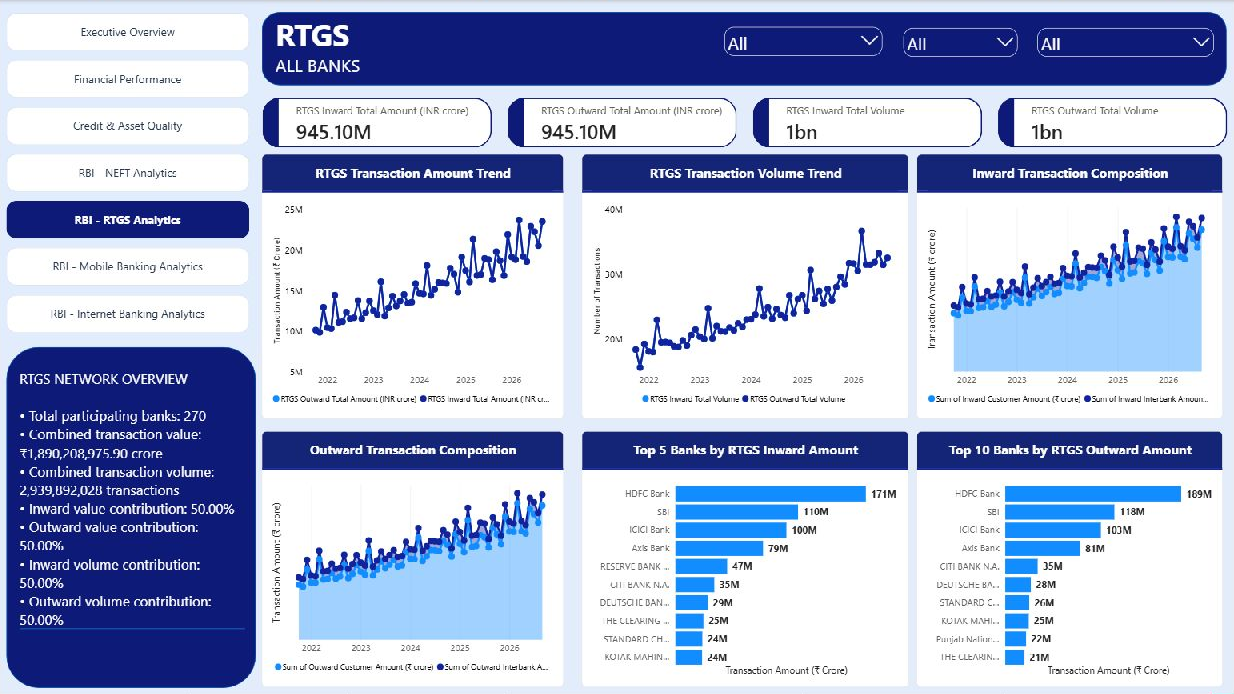

This screenshot's page, from the dashboard's own definition file:
{"tool":"powerbi","page":{"name":"RBI - RTGS Analytics","canvas":[1920,1080],"ordinal":4},"visuals":[{"type":"shape","box":[408,18,1510,114],"z":0},{"type":"slicer","fields":{"Values":["RTGS.Year"]},"box":[1597.3,18.5,304.6,111.1],"z":1000},{"type":"pageNavigator","box":[0,0,408.3,539.3],"z":2000},{"type":"shape","box":[0,540,408,530],"z":3000},{"type":"textbox","box":[31.4,573.8,350.6,476.2],"z":4000},{"type":"textbox","title":"RTGS","box":[408.5,10.5,703.3,132.7],"z":5000},{"type":"cardVisual","fields":{"Data":["RTGS.RTGS Inward Total Amount (INR crore)","RTGS.RTGS Outward Total Amount (INR crore)","RTGS.RTGS Inward Total Volume","RTGS.RTGS Outward Total Volume"]},"box":[408.3,132.7,1510.8,107.2],"z":6000},{"type":"lineChart","title":"RTGS Transaction Amount Trend","fields":{"Category":["RTGS.MonthDate"],"Y":["RTGS.RTGS Outward Total Amount (INR crore)","RTGS.RTGS Inward Total Amount (INR crore)"]},"box":[406.6,239.9,469.6,411.7],"z":7000},{"type":"lineChart","title":"RTGS Transaction Volume Trend","fields":{"Category":["RTGS.MonthDate"],"Y":["RTGS.RTGS Inward Total Volume","RTGS.RTGS Outward Total Volume"]},"box":[905.1,239.9,508.7,411.7],"z":8000},{"type":"clusteredBarChart","title":"Top 5 Banks by RTGS Inward Amount","fields":{"Category":["RTGS.Bank Name"],"Y":["RTGS.RTGS Inward Total Amount (INR crore)"]},"box":[905.1,670.3,508.7,398.1],"z":9000},{"type":"clusteredBarChart","title":"Top 10 Banks by RTGS Outward Amount","fields":{"Category":["RTGS.Bank Name"],"Y":["RTGS.RTGS Outward Total Amount (INR crore)"]},"box":[1425.7,670.3,476.4,398.1],"z":10000},{"type":"slicer","fields":{"Values":["RTGS.Month"]},"box":[1389.4,18.5,207.9,111.1],"z":11000},{"type":"slicer","fields":{"Values":["RTGS.Bank Name"]},"box":[1111.7,17.7,275.5,112.2],"z":12000},{"type":"stackedAreaChart","title":"Inward Transaction Composition","fields":{"Category":["RTGS.MonthDate"],"Y":["Sum(RTGS.Inward Customer Amount (₹ crore))","Sum(RTGS.Inward Interbank Amount (₹ crore))"]},"box":[1425.7,239.9,476.4,411.7],"z":13000},{"type":"stackedAreaChart","title":"Outward Transaction Composition","fields":{"Category":["RTGS.MonthDate"],"Y":["Sum(RTGS.Outward Customer Amount (₹ crore))","Sum(RTGS.Outward Interbank Amount (₹ crore))"]},"box":[406.6,670.3,469.6,398.1],"z":14000}]}

Visuals, with their boxes on the page's 1920x1080 design canvas (x1, y1, x2, y2). These are canvas units, not pixel positions in the 1234x694 screenshot, which may show the page scaled, cropped or inside an application window:
shape: (408,18,1918,132)
slicer - RTGS.Year: (1597,18,1902,130)
pageNavigator: (0,0,408,539)
shape: (0,540,408,1070)
textbox: (31,574,382,1050)
"RTGS" textbox: (408,10,1112,143)
cardVisual - RTGS.RTGS Inward Total Amount (INR crore) x RTGS.RTGS Outward Total Amount (INR crore): (408,133,1919,240)
"RTGS Transaction Amount Trend" lineChart: (407,240,876,652)
"RTGS Transaction Volume Trend" lineChart: (905,240,1414,652)
"Top 5 Banks by RTGS Inward Amount" clusteredBarChart: (905,670,1414,1068)
"Top 10 Banks by RTGS Outward Amount" clusteredBarChart: (1426,670,1902,1068)
slicer - RTGS.Month: (1389,18,1597,130)
slicer - RTGS.Bank Name: (1112,18,1387,130)
"Inward Transaction Composition" stackedAreaChart: (1426,240,1902,652)
"Outward Transaction Composition" stackedAreaChart: (407,670,876,1068)
